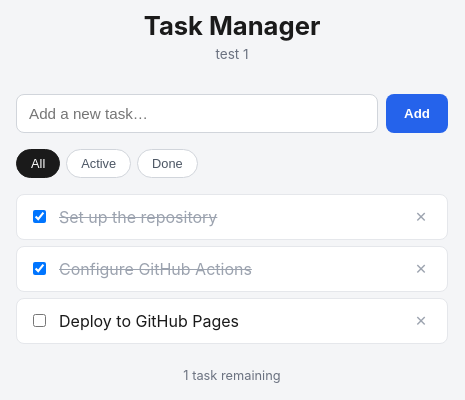
Test case: deletes a task when the delete button is clicked
Click the button named "Delete Set up the repository".
click(421, 217)  # box left=407, top=205, right=435, bottom=229
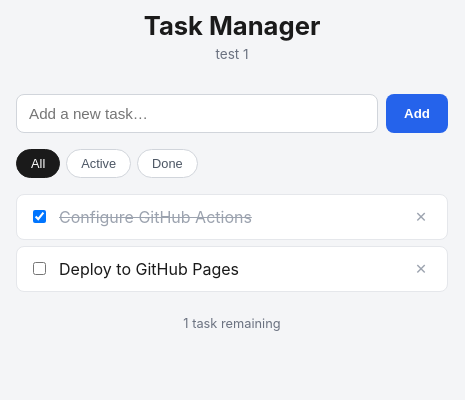
Result: the text "Set up the repository" is gone
